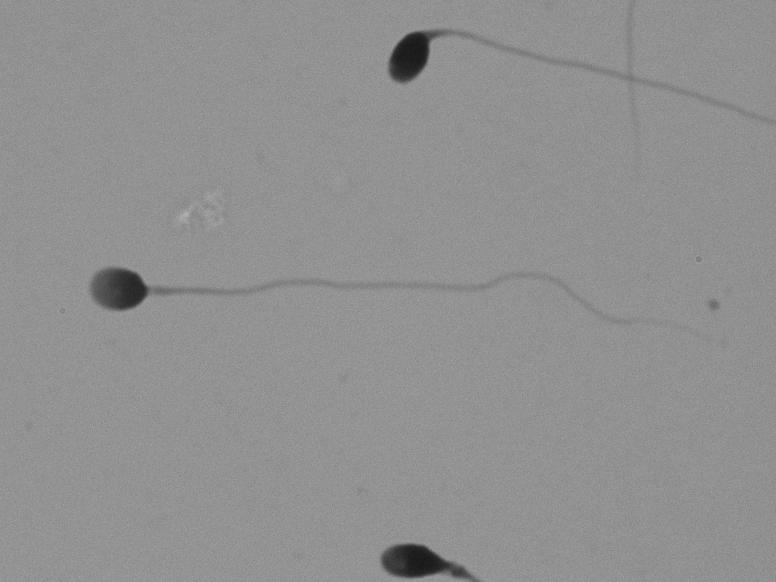Abnormal: (352, 17, 748, 140), (349, 531, 484, 577)
Normal: (51, 217, 733, 366)
